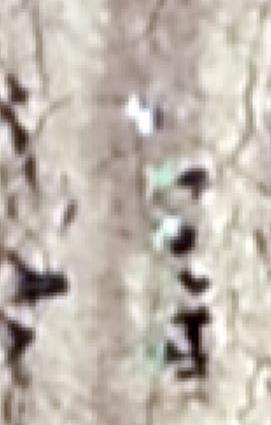cotton: (137, 339, 168, 369), (151, 217, 175, 252), (147, 163, 175, 188)
